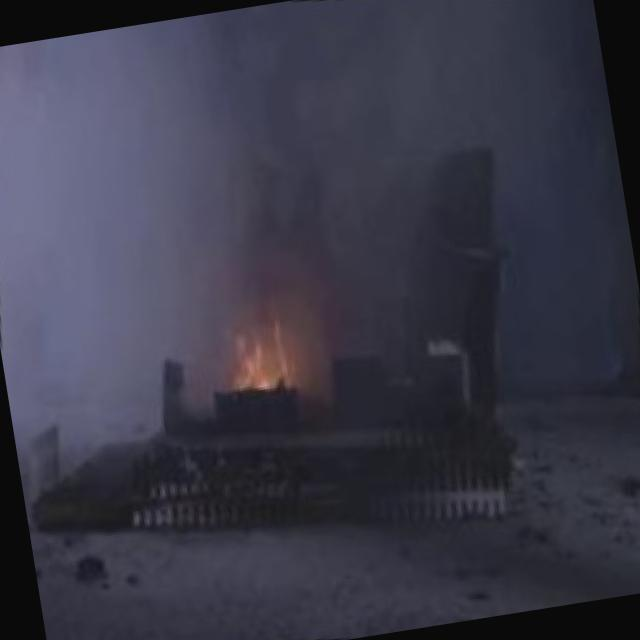fire: (182, 282, 354, 466)
smoke: (0, 0, 636, 369)
